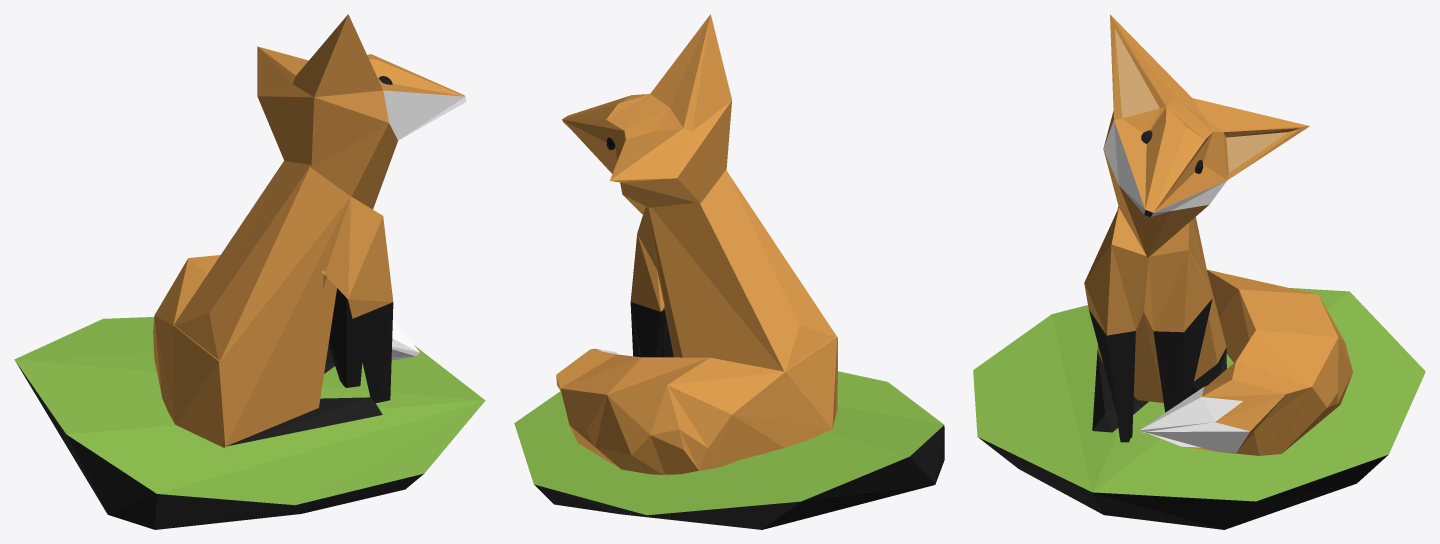
File: fox.obj
3 renders of one model, left to right at view 1: azimuth 30°, elevation 25°; view 2: azimuth 150°, elevation 25°; view 3: azimuth 270°, elevation 25°, orthographic. The views are drawn at different scales.
Parts seen in each view (by area): view 1: group1900056852, group500549351, group1054568923, group125599753; view 2: group1900056852, group125599753, group500549351, group1054568923; view 3: group1900056852, group125599753, group500549351, group1054568923.
Boxes of the visible parts, x1,y1,x2,y2 form: group1900056852: (14,317,485,529); group500549351: (172,161,393,446); group1054568923: (257,14,466,209); group125599753: (153,255,419,448); group1900056852: (514,371,944,529); group125599753: (556,336,837,474); group500549351: (630,170,837,412); group1054568923: (562,14,731,214); group1900056852: (973,288,1425,529); group125599753: (1139,269,1352,455); group500549351: (1084,206,1226,442); group1054568923: (1103,14,1309,257).
Size of the model in its own units: 0.2063 by 0.2327 by 0.2086.
